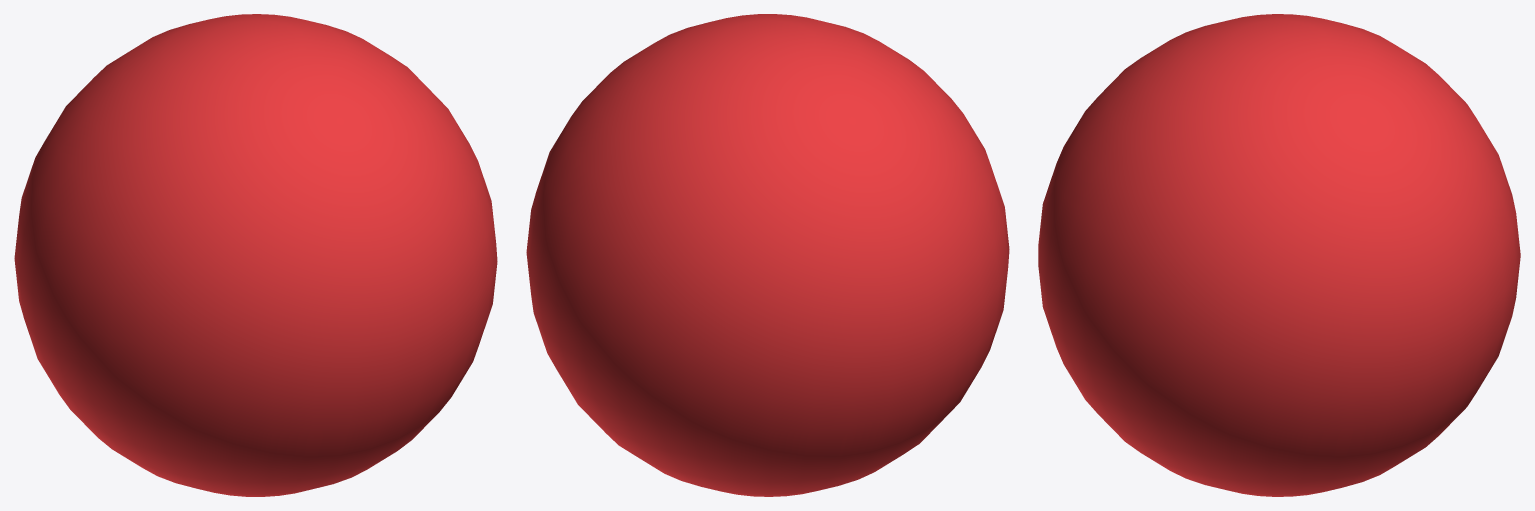
Rendered from SM_RedSphere.fbx.
3 views of the same model, side by side, from view 1: azimuth 30°, elevation 25°; view 2: azimuth 150°, elevation 25°; view 3: azimuth 270°, elevation 25° (orthographic).
Parts seen in each view (by area): view 1: Sphere; view 2: Sphere; view 3: Sphere.
Boxes of the visible parts, box(x1,y1,x2,y2) form: Sphere: box(14, 14, 497, 496); Sphere: box(526, 14, 1009, 496); Sphere: box(1038, 14, 1520, 496).
Bounding box in the file's own units: 1.1 × 1.11 × 1.1.
